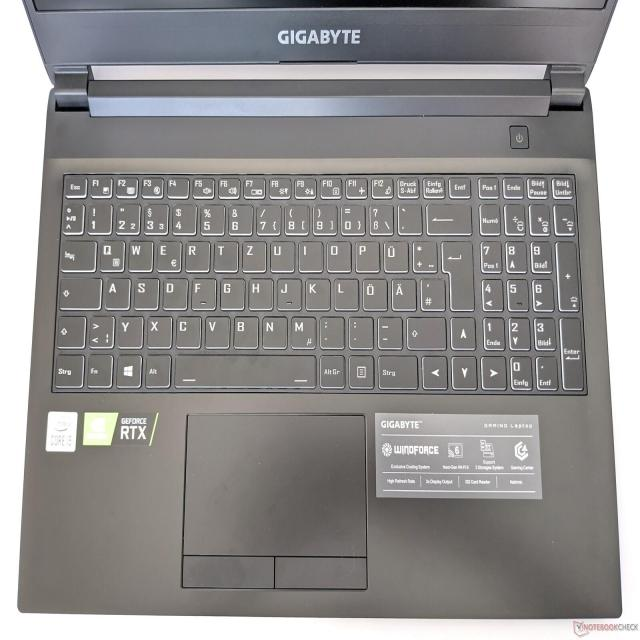0: (339, 201, 364, 234)
1: (86, 200, 111, 233)
2: (114, 200, 140, 233)
3: (142, 201, 168, 234)
4: (170, 201, 195, 234)
5: (199, 202, 224, 234)
6: (227, 202, 252, 234)
7: (255, 201, 280, 234)
8: (283, 202, 308, 234)
9: (311, 201, 336, 234)
a: (103, 275, 129, 308)
accent: (396, 201, 421, 234)
ae: (389, 276, 415, 310)
alt-left: (144, 352, 170, 387)
altgr-right: (318, 352, 344, 387)
b: (231, 313, 258, 348)
c: (174, 313, 200, 348)
caret: (61, 199, 84, 234)
comma: (317, 313, 344, 347)
d: (161, 275, 186, 309)
del: (424, 200, 471, 233)
e: (155, 237, 181, 271)
enter: (439, 236, 472, 309)
f: (190, 276, 215, 310)
g: (218, 275, 244, 309)
h: (247, 275, 272, 309)
hash: (418, 275, 444, 310)
i: (296, 238, 322, 271)
j: (275, 275, 300, 309)
k: (303, 276, 329, 310)
keyboard: (45, 156, 589, 398)
l: (332, 276, 357, 310)
less: (87, 312, 113, 348)
m: (288, 313, 315, 348)
minus: (375, 314, 402, 348)
n: (260, 313, 287, 348)
o: (325, 238, 350, 271)
oe: (360, 276, 386, 310)
p: (353, 238, 378, 271)
plus: (410, 238, 436, 272)
point: (346, 313, 373, 348)
q: (98, 238, 124, 272)
r: (183, 238, 209, 271)
s: (132, 275, 158, 309)
shift-left: (55, 313, 85, 348)
shift-lock: (57, 274, 101, 308)
shift-right: (405, 313, 446, 348)
space: (172, 351, 315, 388)
ss: (367, 201, 392, 234)
strg-left: (52, 350, 83, 388)
strg-right: (376, 352, 418, 388)
t: (212, 238, 237, 271)
tab: (59, 237, 95, 271)
u: (268, 238, 293, 271)
ue: (381, 238, 407, 272)
v: (203, 313, 229, 348)
w: (127, 238, 152, 271)
x: (145, 313, 171, 348)
y: (116, 313, 142, 347)
z: (240, 238, 265, 271)
